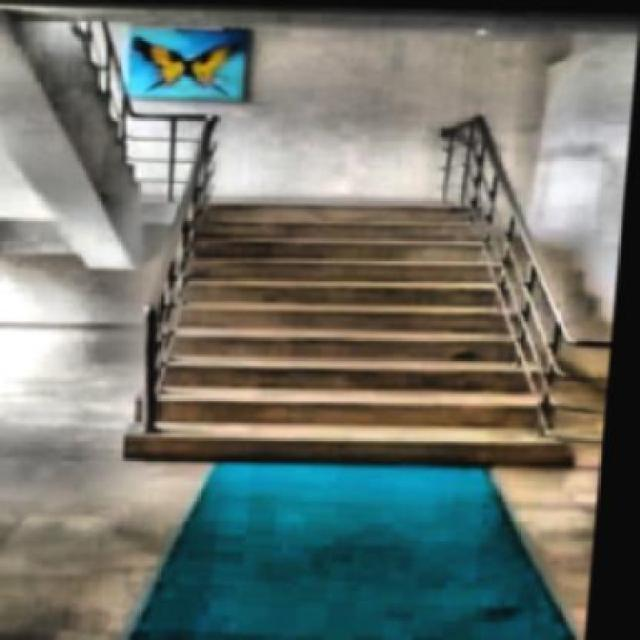stair: (134, 192, 594, 465)
